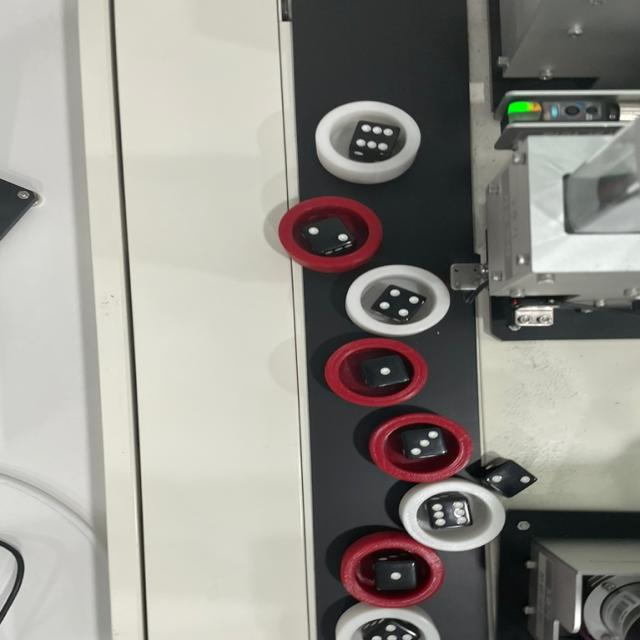DICE1: (368, 362, 402, 384)
DICE2: (308, 220, 350, 247), (486, 467, 532, 491)
DICE3: (401, 429, 449, 459), (379, 563, 412, 591)
DICE4: (377, 288, 420, 320)
DICE5: (371, 625, 414, 640)
DICE6: (429, 501, 473, 529), (356, 124, 396, 151)
RedChip: (278, 195, 378, 272), (368, 414, 474, 481), (326, 338, 428, 406), (341, 540, 439, 607)
WhiteChip: (316, 101, 426, 183), (346, 264, 451, 337), (402, 482, 508, 550), (334, 609, 444, 640)
